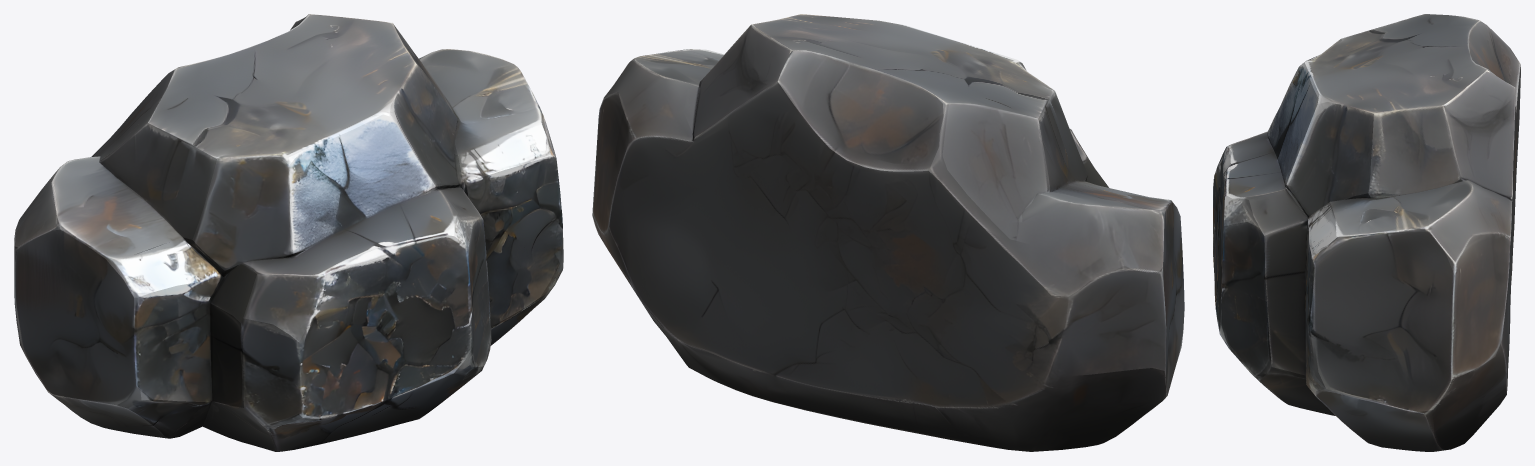
File: base_basic_pbr.fbx
3 renders of one model, left to right at view 1: azimuth 30°, elevation 25°; view 2: azimuth 150°, elevation 25°; view 3: azimuth 270°, elevation 25°, orthographic. The views are drawn at different scales.
Parts seen in each view (by area): view 1: model; view 2: model; view 3: model.
Boxes of the visible parts, x1,y1,x2,y2 form: model: [14, 14, 563, 451]; model: [592, 14, 1184, 451]; model: [1213, 14, 1520, 451].
Bounding box in the file's own units: 181 × 111 × 93.53.
Materials: 1 (1 with a texture image).
